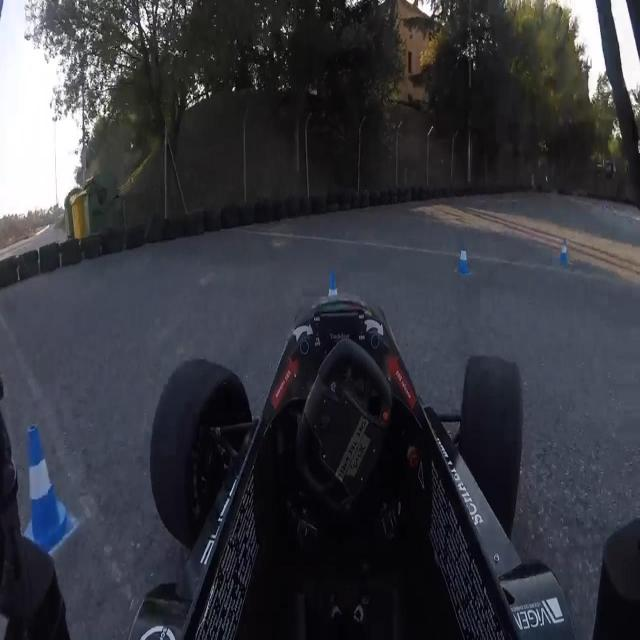blue_cone: (26, 419, 79, 561), (322, 273, 344, 326), (455, 240, 472, 282), (558, 238, 573, 276)
